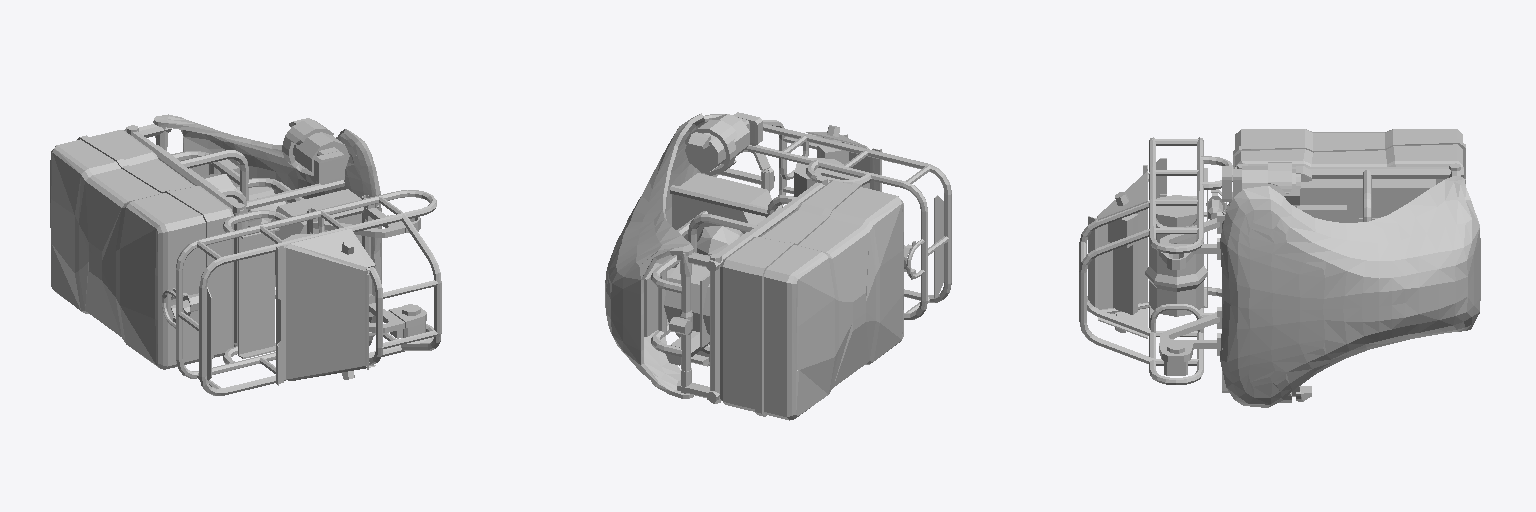
File: utorso.obj
The picture shows the model from 3 angles: view 1: azimuth 30°, elevation 25°; view 2: azimuth 150°, elevation 25°; view 3: azimuth 270°, elevation 25°; orthographic projection.
Parts seen in each view (by area): view 1: utorso; view 2: utorso; view 3: utorso.
Boxes of the visible parts, x1,y1,x2,y2 form: utorso: [50, 114, 441, 395]; utorso: [605, 112, 951, 420]; utorso: [1079, 129, 1480, 407].
Bounding box in the file's own units: 0.6239 × 0.56 × 0.8599.